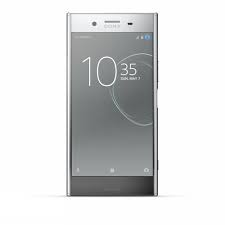sony: (63, 10, 157, 200)
